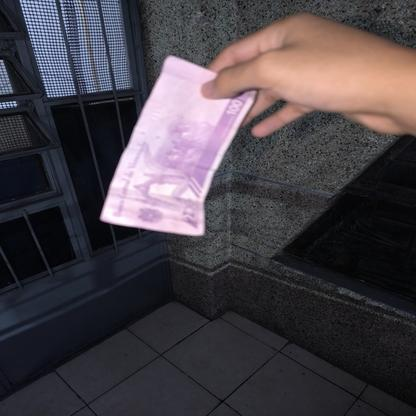one_hundred-back-vef: (100, 55, 256, 235)
